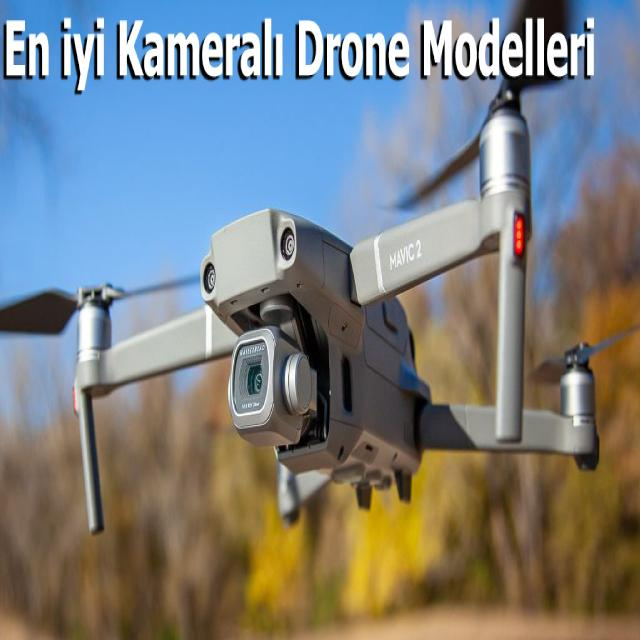drone: (45, 88, 630, 502)
